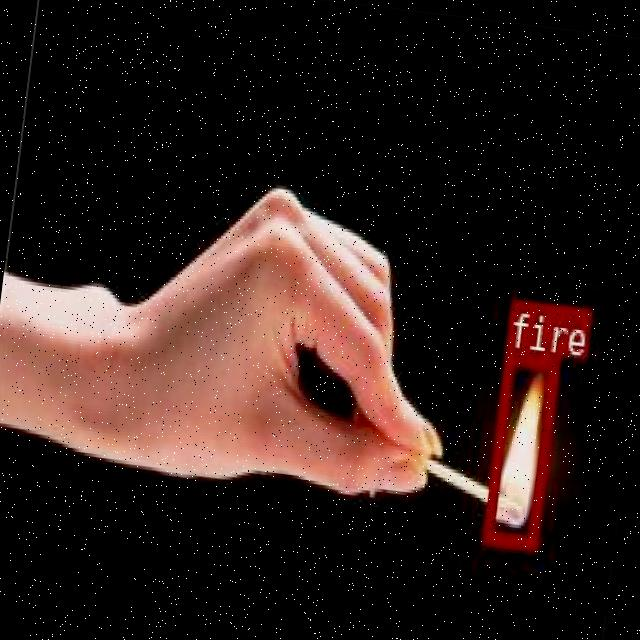fire: (480, 346, 558, 548)
